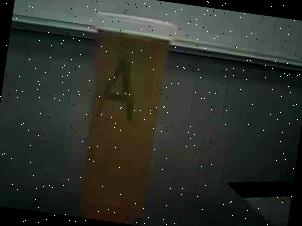Bottle A: (54, 0, 201, 226)
